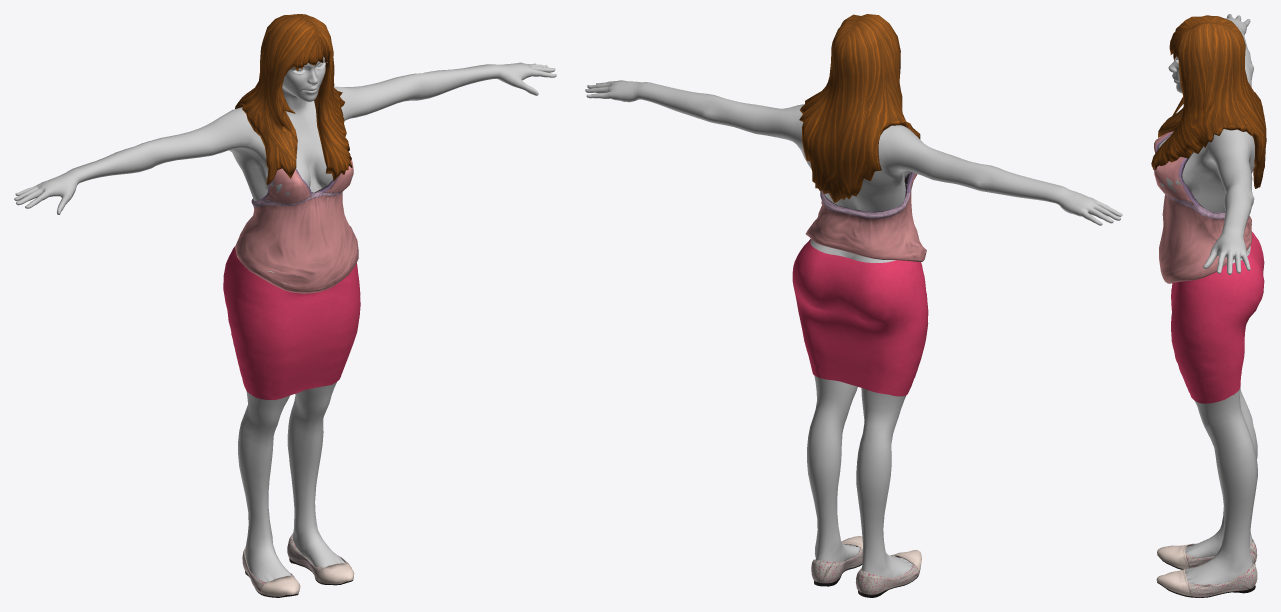
The model's file is frenchkiss.obj.
The picture shows the model from 3 angles, left to right: view 1: azimuth 30°, elevation 25°; view 2: azimuth 150°, elevation 25°; view 3: azimuth 270°, elevation 25°; orthographic projection.
Visible parts, largest first — view 1: Body, Bottoms, Tops, Hair, Shoes; view 2: Body, Bottoms, Hair, Tops, Shoes; view 3: Body, Hair, Bottoms, Tops, Shoes.
Part boxes in pixels (x1=…): Body: x1=14, y1=57, x2=556, y2=582; Bottoms: x1=223, y1=246, x2=360, y2=399; Tops: x1=235, y1=159, x2=358, y2=293; Hair: x1=235, y1=14, x2=352, y2=185; Shoes: x1=242, y1=533, x2=354, y2=597; Body: x1=585, y1=80, x2=1122, y2=578; Bottoms: x1=792, y1=239, x2=928, y2=396; Hair: x1=799, y1=14, x2=920, y2=202; Tops: x1=805, y1=172, x2=926, y2=262; Shoes: x1=811, y1=536, x2=921, y2=597; Body: x1=1158, y1=14, x2=1257, y2=589; Hair: x1=1151, y1=15, x2=1266, y2=188; Bottoms: x1=1171, y1=232, x2=1264, y2=403; Tops: x1=1154, y1=131, x2=1252, y2=283; Shoes: x1=1156, y1=539, x2=1257, y2=597.
Size of the model in its own units: 179 by 179 by 33.39.
